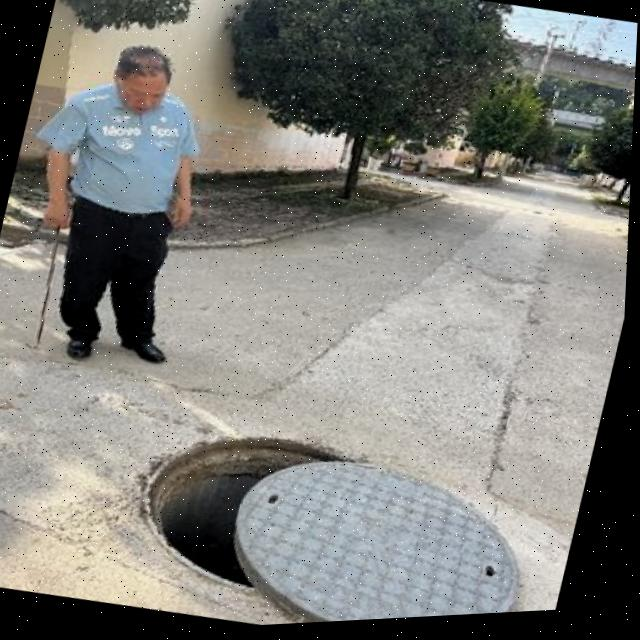manhole: (109, 397, 559, 635)
